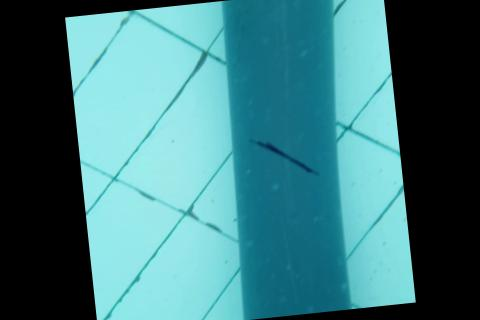keretakan: (252, 133, 316, 181)
